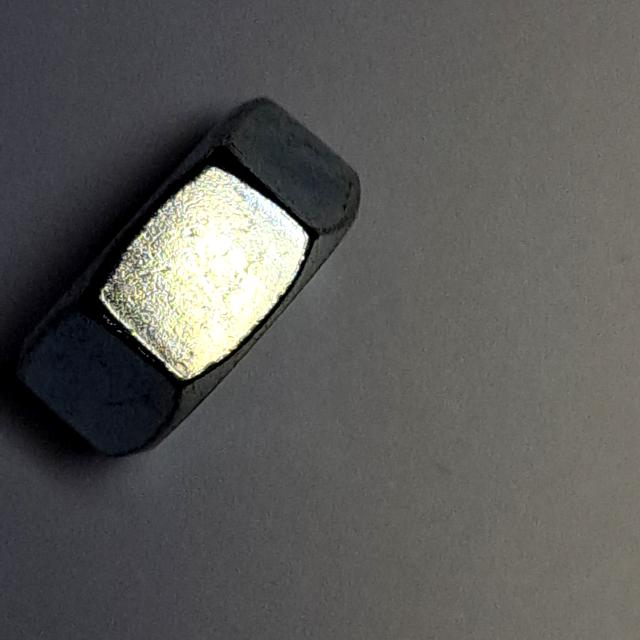Side_Excellent: (1, 87, 371, 467)
